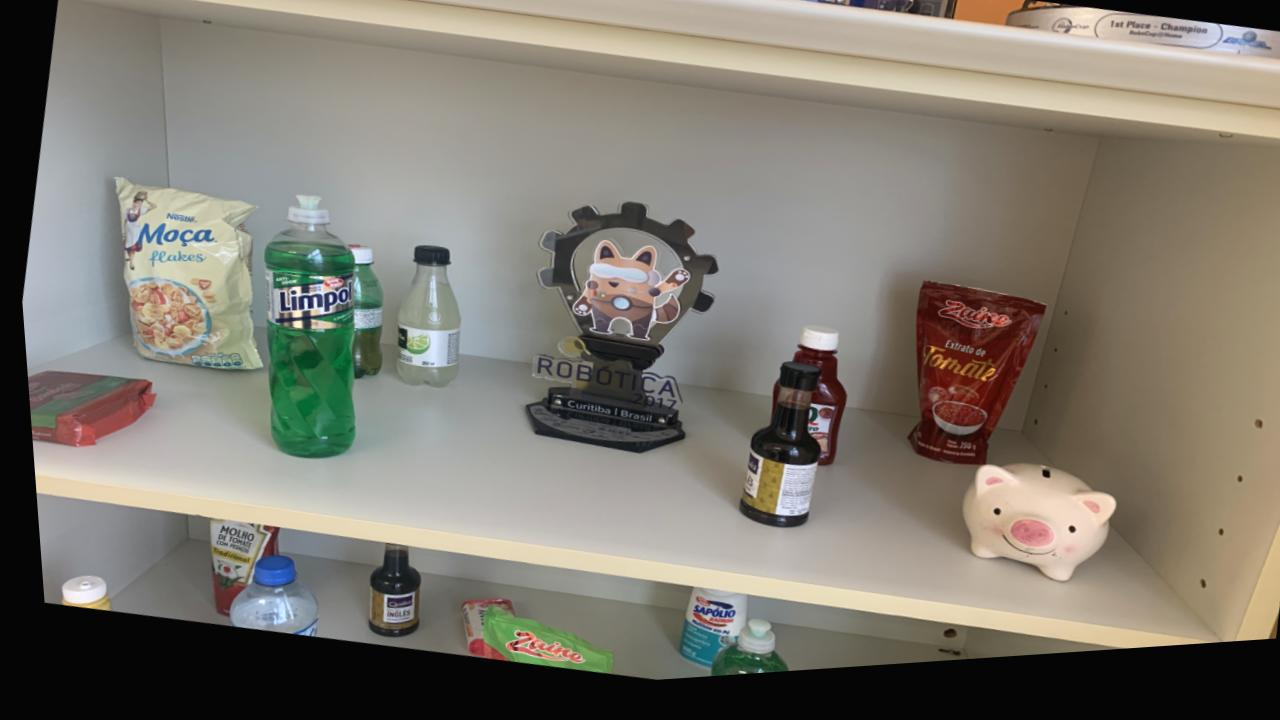Cleaner-Cleanup_Items: (667, 596, 737, 676)
Detergent-Cleanup_Items: (259, 198, 351, 461), (699, 628, 778, 686)
English_Sauce-Pantry_Items: (731, 372, 813, 538), (357, 548, 412, 642)
Flakes-Snacks: (111, 178, 256, 373)
Guarana-Drinks: (345, 248, 379, 382)
Guava-Snacks: (22, 370, 148, 447)
Ketchup-Pantry_Items: (786, 335, 840, 477)
Mustard-Pantry_Items: (51, 576, 102, 611)
Pig_Safe-Miscellaneous: (953, 476, 1106, 596)
Soap-Cleanup_Items: (450, 605, 503, 667)
Soda-Drinks: (389, 250, 455, 393)
Tomato_Sauce-Pantry_Items: (899, 293, 1039, 478), (471, 612, 603, 681), (199, 520, 269, 616)
Trophy-Miscellaneous: (517, 210, 713, 461)
Water_Bottle-Drinks: (219, 558, 308, 640)
